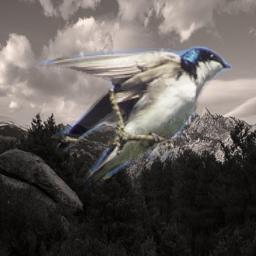Swallow: (36, 44, 232, 194)
